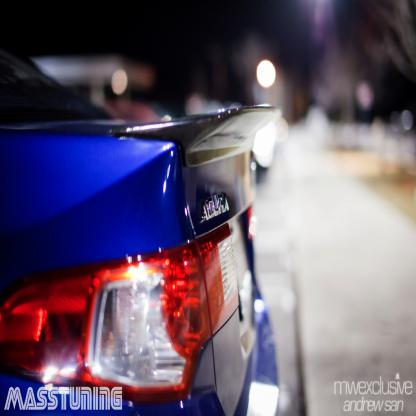Car: (0, 39, 283, 416)
